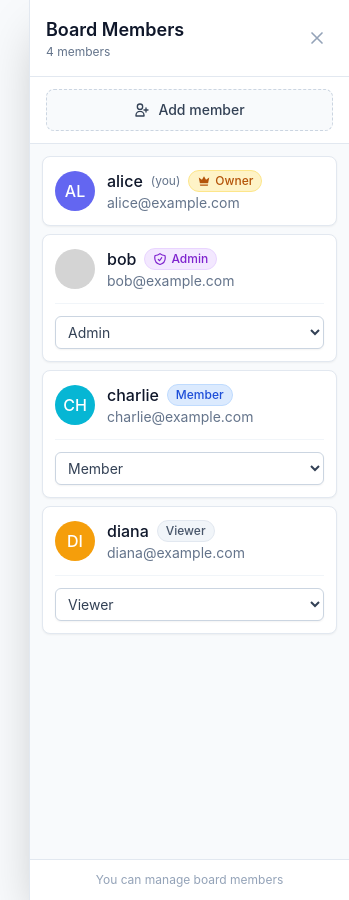
BoardMembersPanel › add member functionality (canManage=true) › displays addMemberError when present
Click the button "Add member".
click(190, 110)  # box [46,89,333,131]
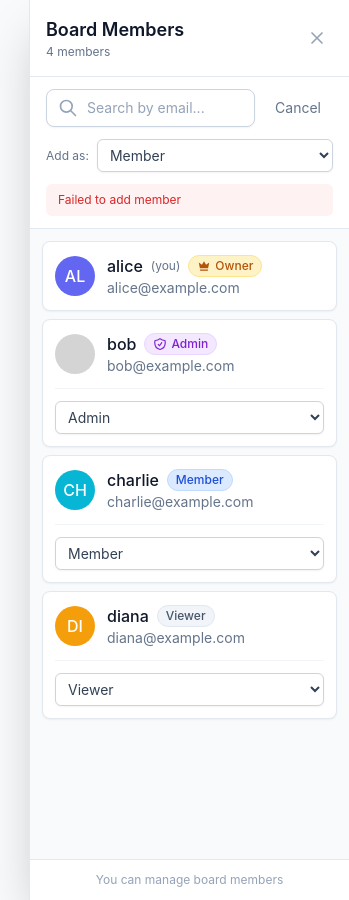
Now the text "Failed to add member" is shown, box [46,184,333,216]
